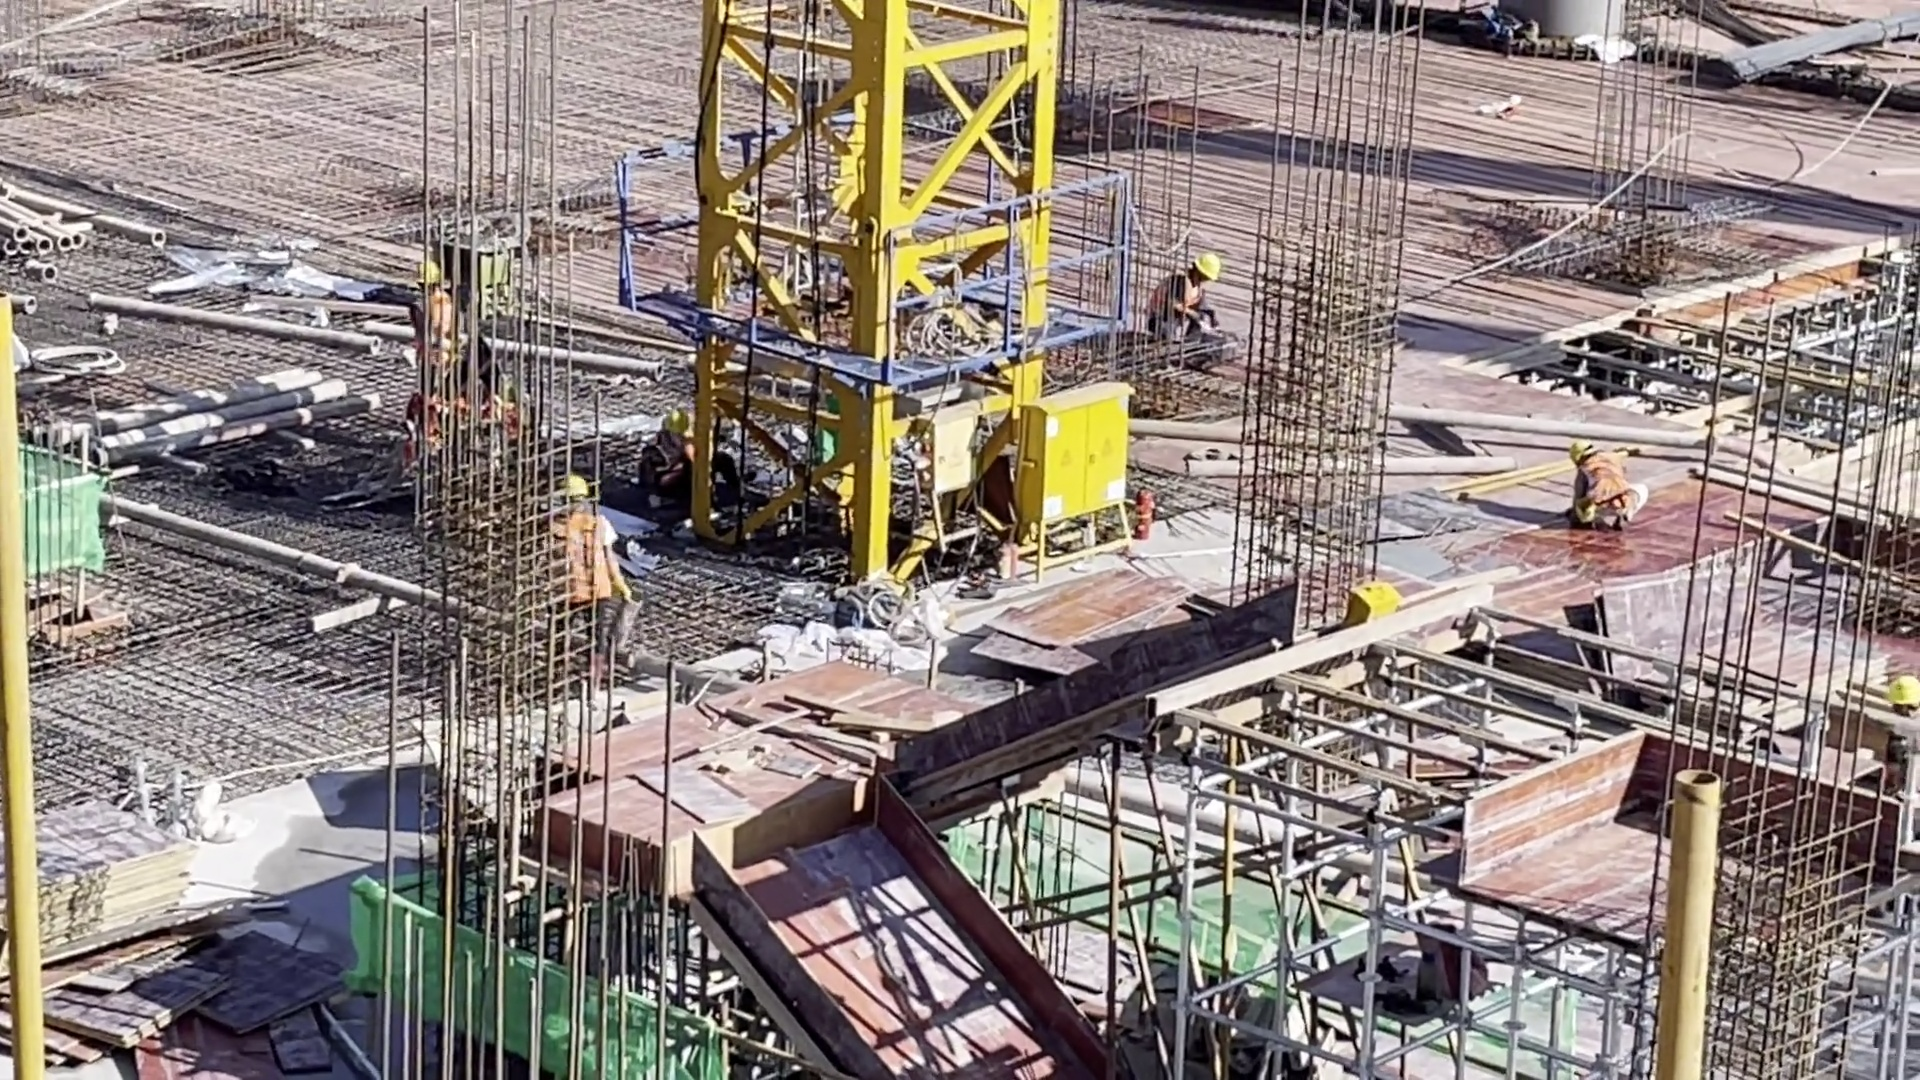board: (37, 930, 351, 1080), (1, 801, 194, 967)
ebox: (1040, 380, 1162, 582), (960, 399, 1024, 566), (1342, 578, 1406, 626)
helmet: (1187, 253, 1228, 293), (559, 477, 591, 507)
person: (531, 474, 620, 670), (1141, 252, 1220, 355), (1562, 443, 1648, 532), (635, 404, 696, 522)
rebar: (1685, 1, 1920, 97)
vest: (553, 519, 616, 612), (1584, 461, 1634, 516)
